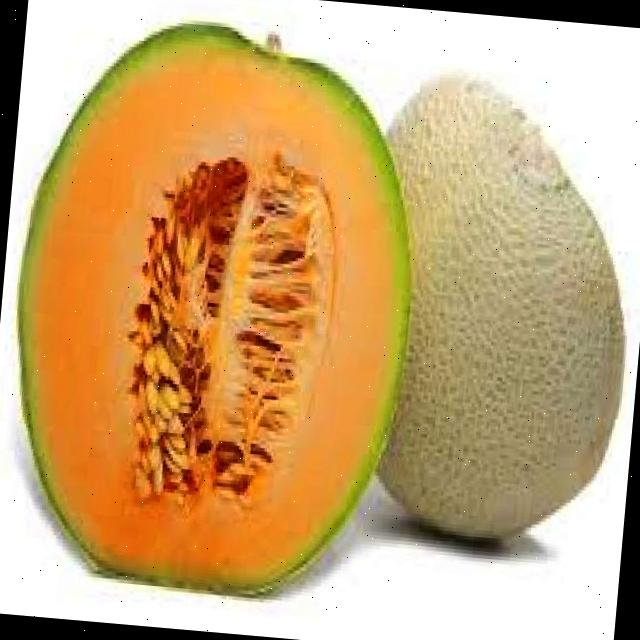Hami Melon: (0, 8, 429, 606), (353, 67, 640, 553)
